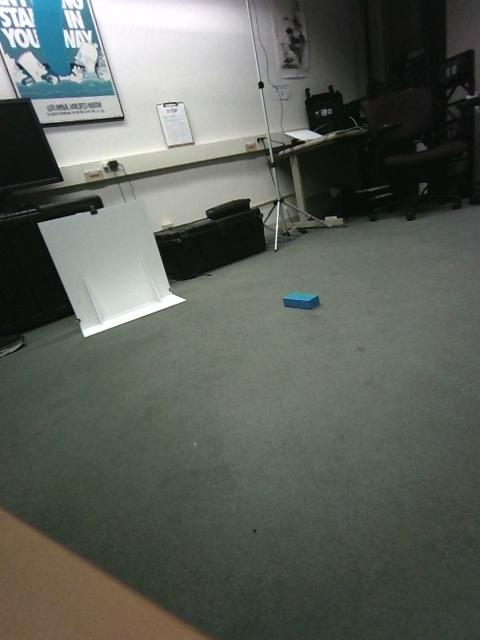block: (339, 270, 408, 322)
